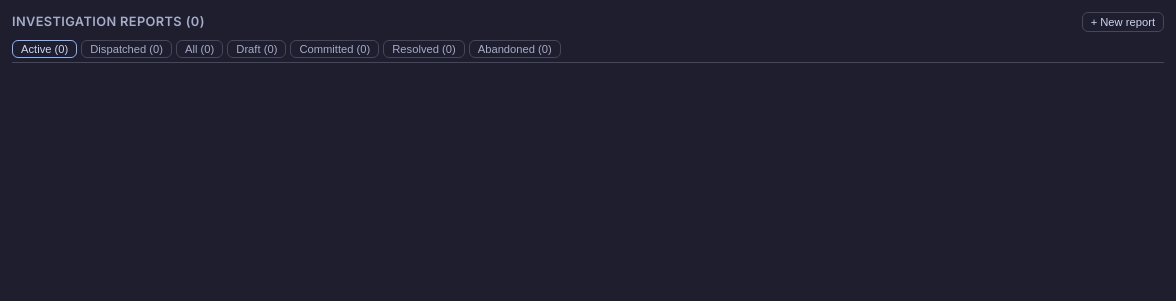
InvestigationReportSection — filing a report is a single action › creates and commits the report in one click, rendering exactly one committed card
Expected: the element with test id "investigation-report-section" is shown, [12, 12, 1164, 64]
Click the button with test id "report-start-draft" at (1123,22), box [1082, 12, 1164, 32]
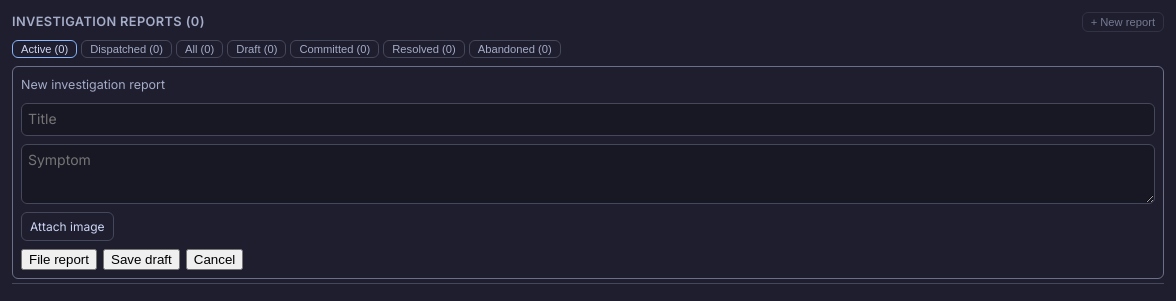
Type "New symptom" into the field with test id "report-draft-title" at (588,120), box [21, 103, 1155, 136]
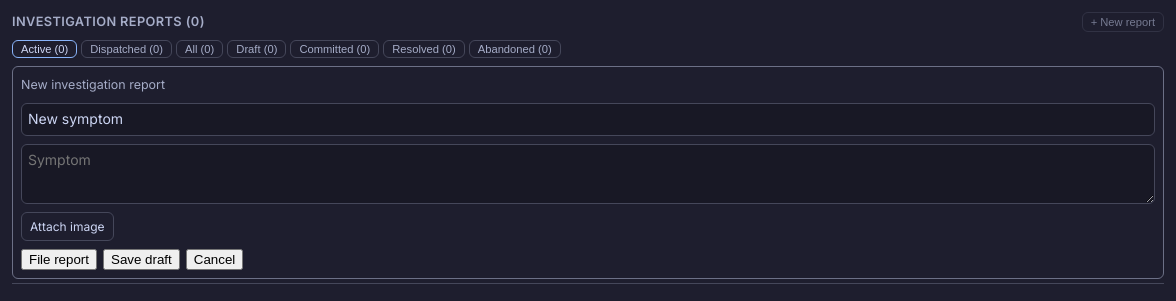
Type "It broke in prod" into the text box with test id "report-draft-symptom" at (588,174), box [21, 144, 1155, 204]
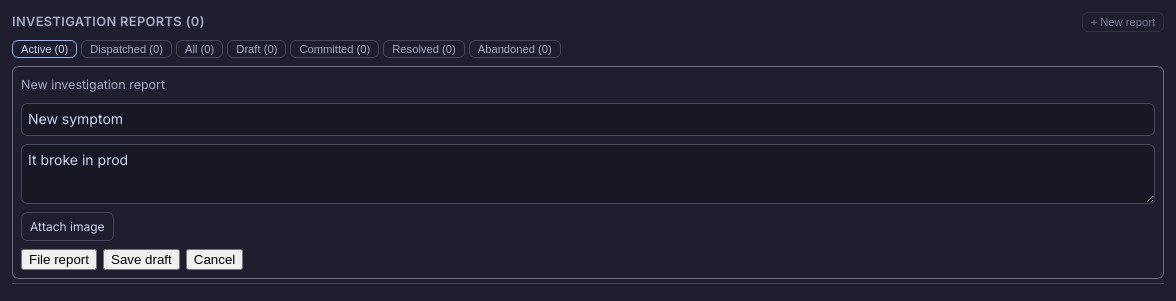
Click the button with test id "report-draft-submit" at (59,260), box [21, 249, 97, 270]
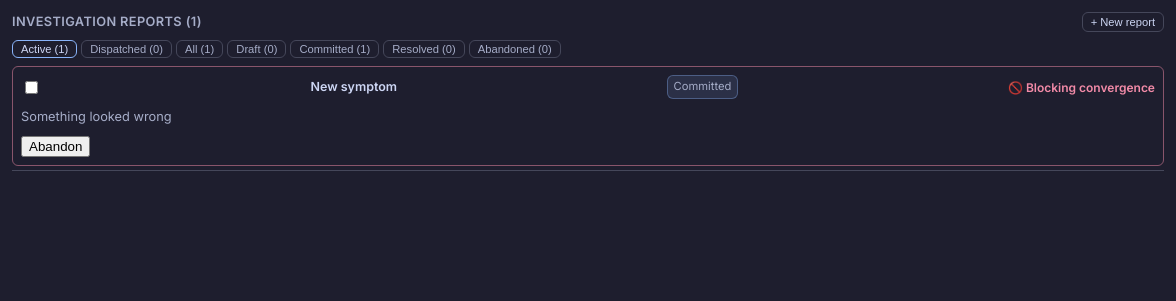
Expected: the element with test id "report-card-r-new" is shown, [12, 66, 1164, 166]
Expected: the text with test id "report-state-r-new" reads "Committed", [674, 80, 731, 94]
